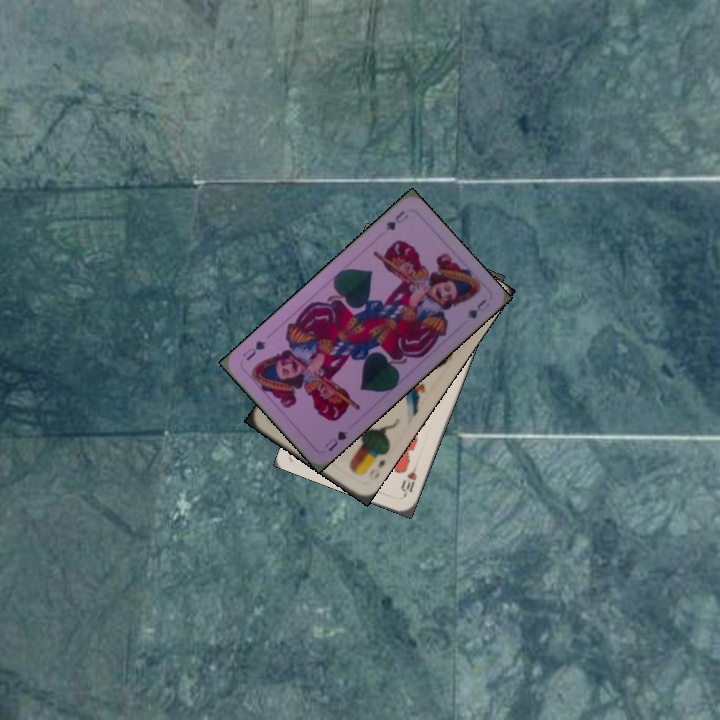EO: (364, 455, 388, 483)
GU: (320, 427, 351, 454), (381, 207, 411, 233)
H10: (397, 460, 420, 499)
